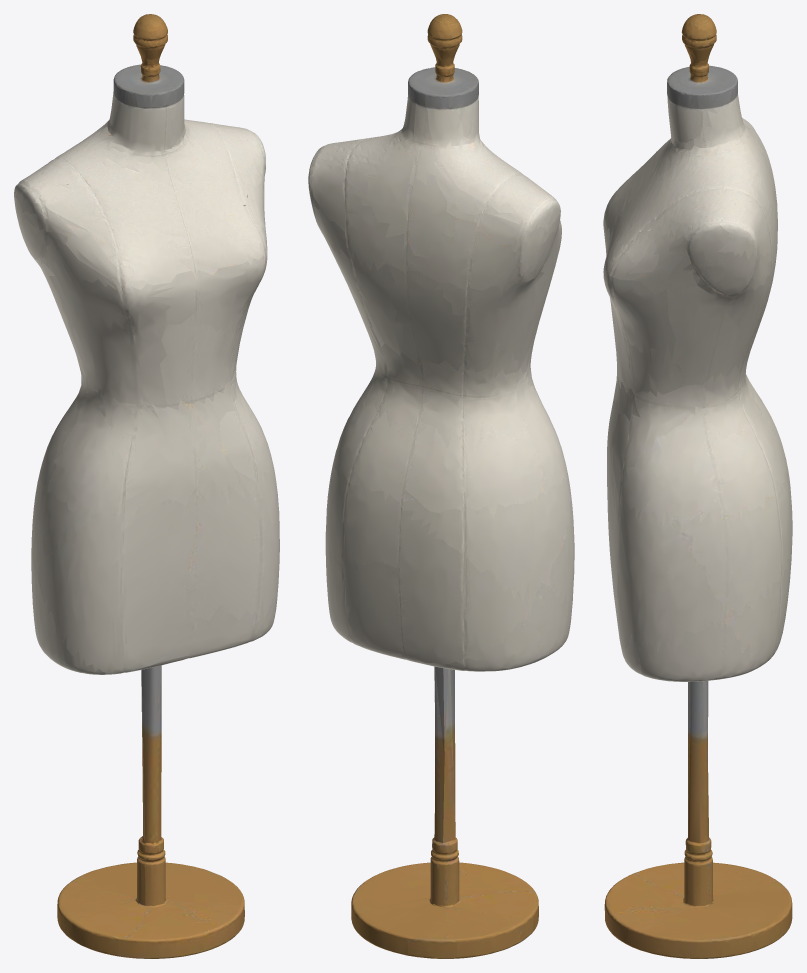
The model's file is mannequin-dress-form-ivory.glb.
3 renders of one model, left to right at view 1: azimuth 30°, elevation 25°; view 2: azimuth 150°, elevation 25°; view 3: azimuth 270°, elevation 25°, orthographic.
Parts seen in each view (by area): view 1: mesh_node; view 2: mesh_node; view 3: mesh_node.
Part boxes in pixels (box(x1,y1,x2,y2)): mesh_node: box(14, 14, 279, 958); mesh_node: box(308, 14, 574, 958); mesh_node: box(603, 14, 792, 958).
Size of the model in its own units: 0.5129 by 1.9 by 0.3606.
Materials: 1 (1 with a texture image).
